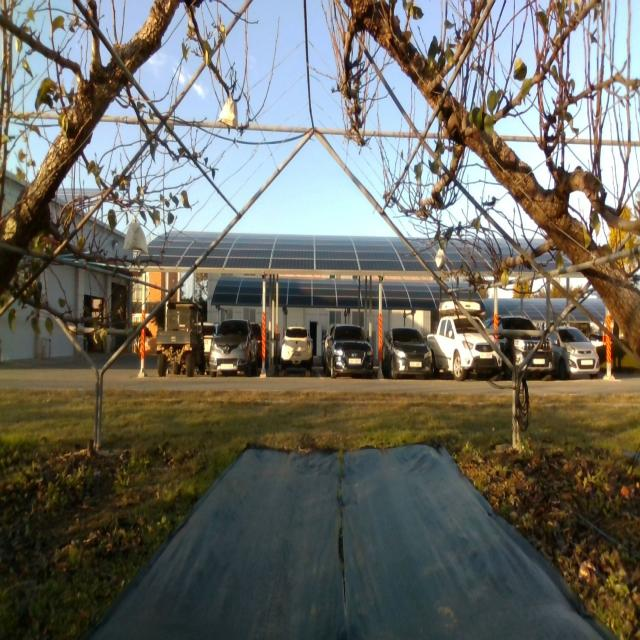pearbags: (124, 223, 148, 254), (219, 98, 237, 128), (436, 248, 446, 269)
